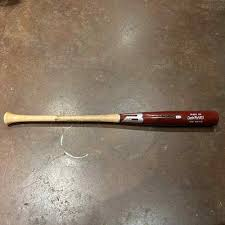bat: (3, 109, 220, 128)
